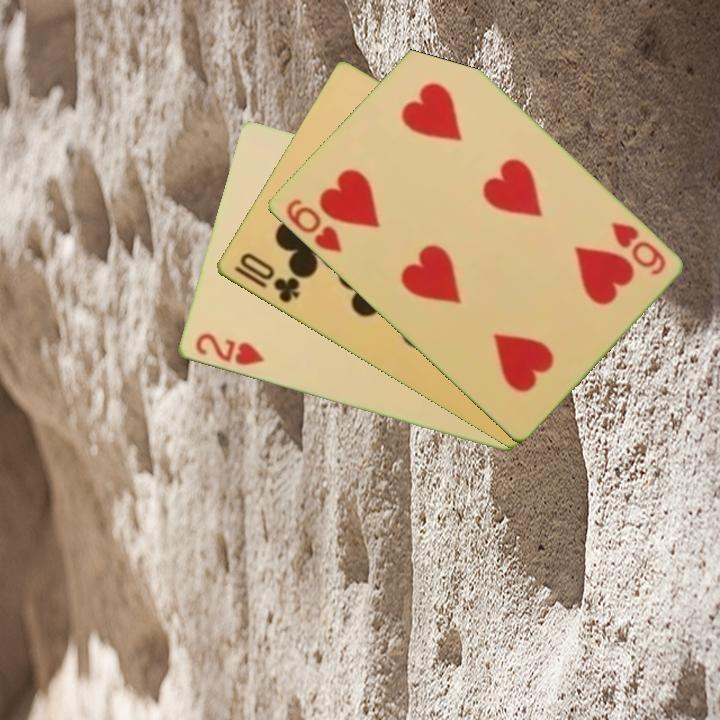10c: (230, 249, 303, 306)
2h: (191, 329, 267, 369)
6h: (281, 195, 345, 256), (607, 218, 668, 279)
